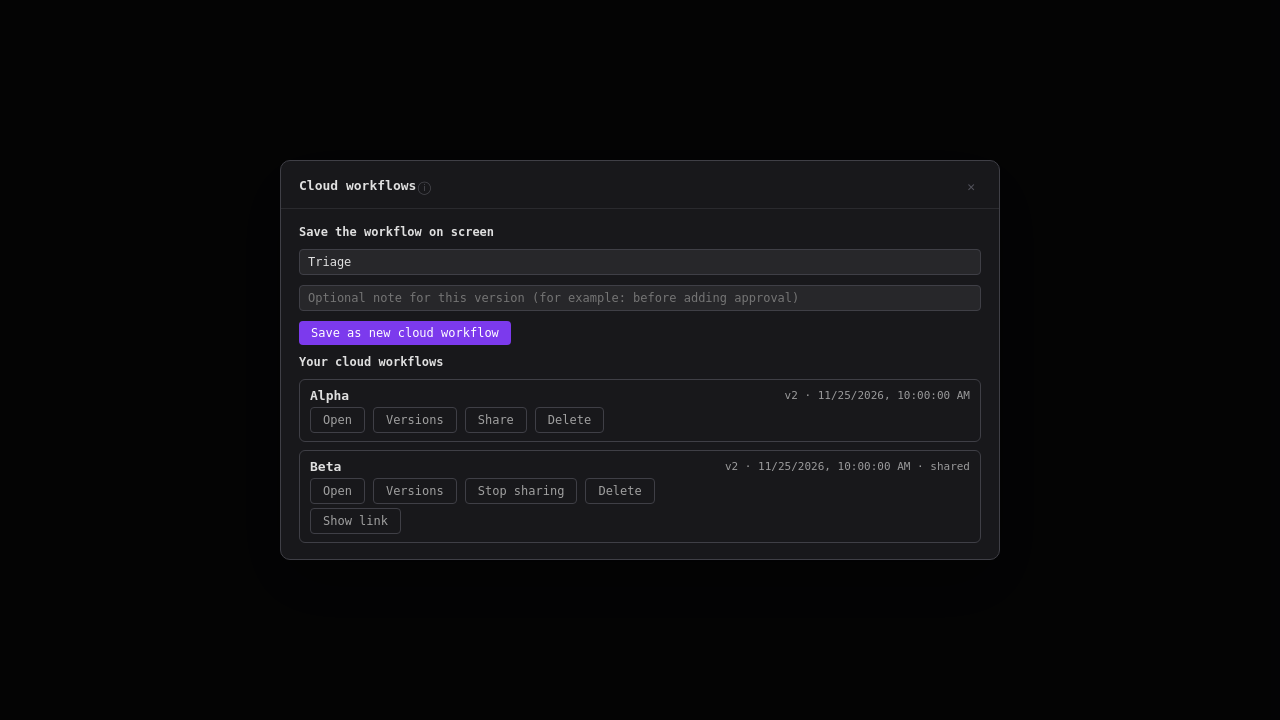
Scenario: CloudModal — versions › says when the current copy equals the chosen version
The image size is (1280, 720).
Step 1. Click the button with aria-label "Versions of Alpha" → coordinates (415, 420), box [373,407,457,433]
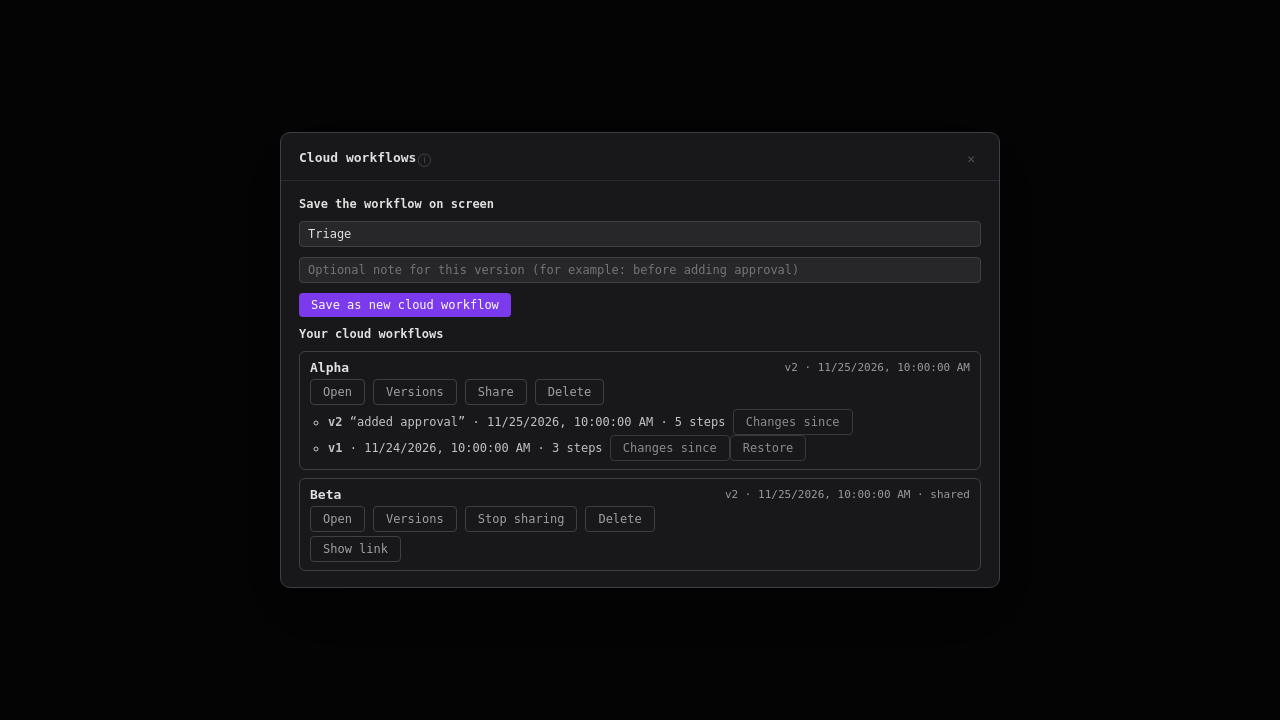
Step 2. Click the button with aria-label "Changes since version 1" → coordinates (670, 448), box [610,435,730,461]
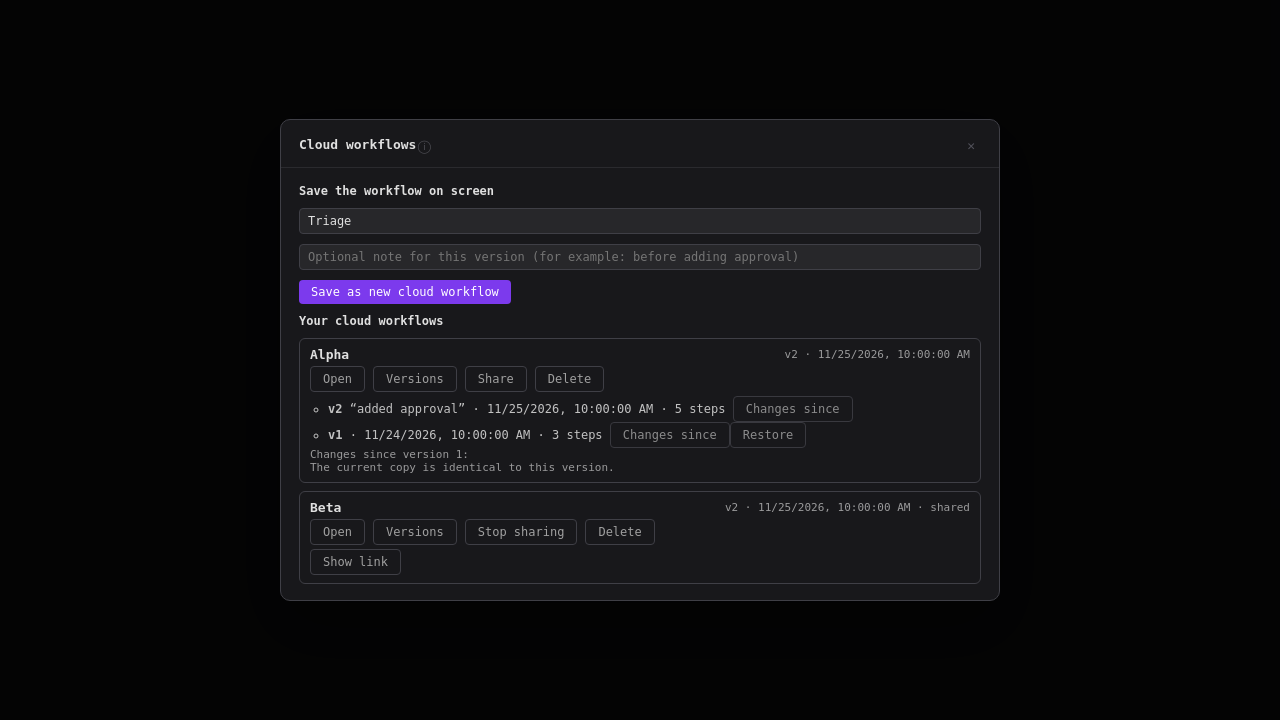
Check: the text with test id "version-diff" shows "identical to this version", box [310,461,615,474]
